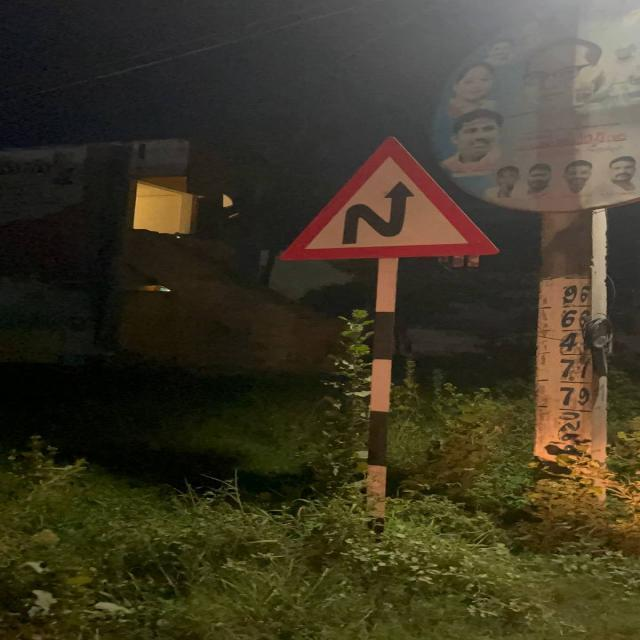right reverse bend: (273, 133, 503, 272)
